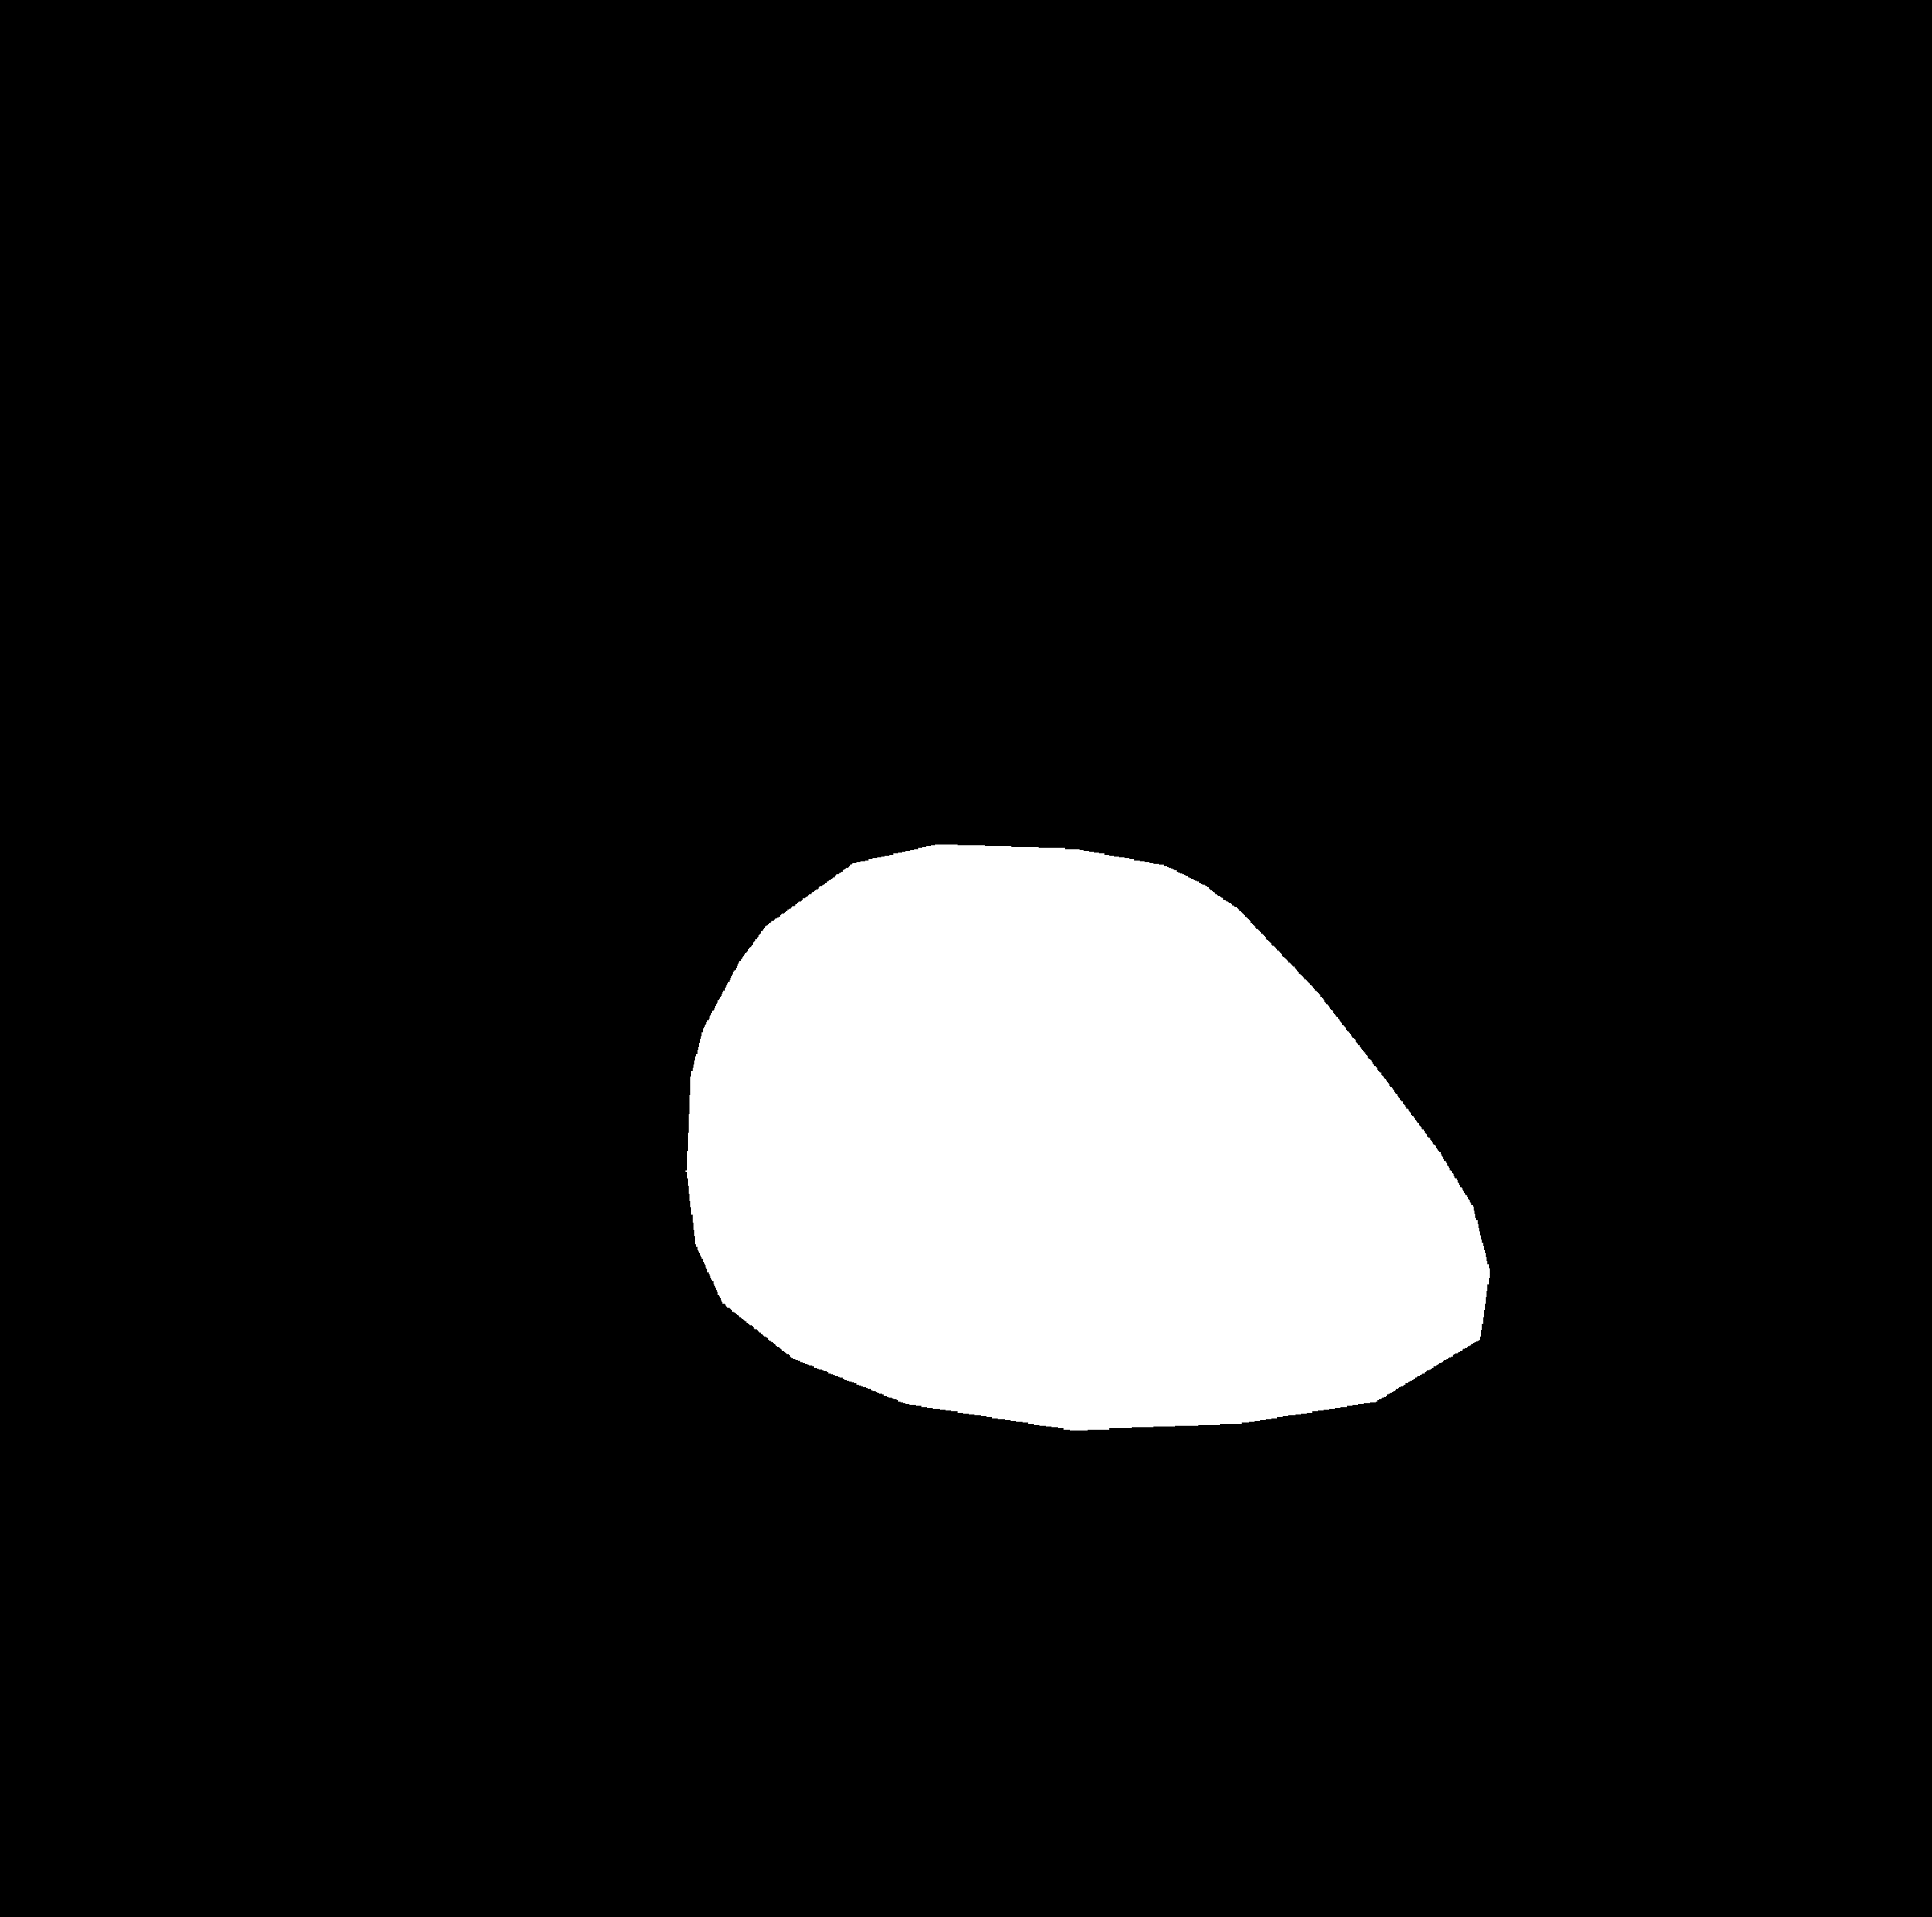heart: (684, 911, 1513, 1461)
left_lung: (237, 184, 911, 1520)
right_lung: (1079, 193, 1709, 1524)
